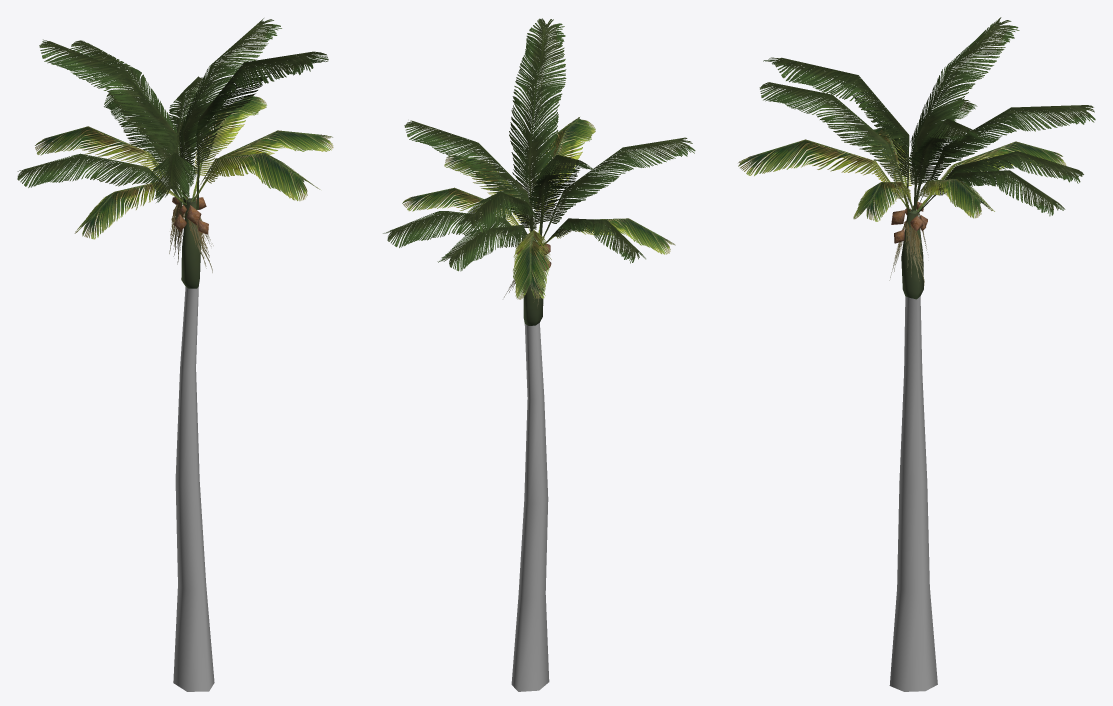
File: kiV3_2s_LOD1.fbx
The picture shows the model from 3 angles, left to right: view 1: azimuth 30°, elevation 25°; view 2: azimuth 150°, elevation 25°; view 3: azimuth 270°, elevation 25°; orthographic projection. The views are drawn at different scales.
Visible parts, largest first — view 1: kiV3_LOD1; view 2: kiV3_LOD1; view 3: kiV3_LOD1.
Part boxes in pixels (x1,y1,x2,y2): kiV3_LOD1: (17, 18, 333, 691); kiV3_LOD1: (383, 18, 695, 691); kiV3_LOD1: (738, 17, 1095, 691).
Bounding box in the file's own units: 2212 × 5127 × 2614.
